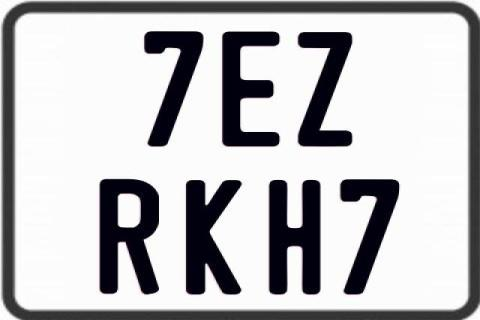0: (339, 178, 404, 298), (142, 32, 206, 152)
E: (222, 29, 286, 145)
H: (266, 179, 319, 297)
K: (186, 180, 243, 295)
R: (98, 180, 158, 296)
Z: (296, 30, 352, 146)
